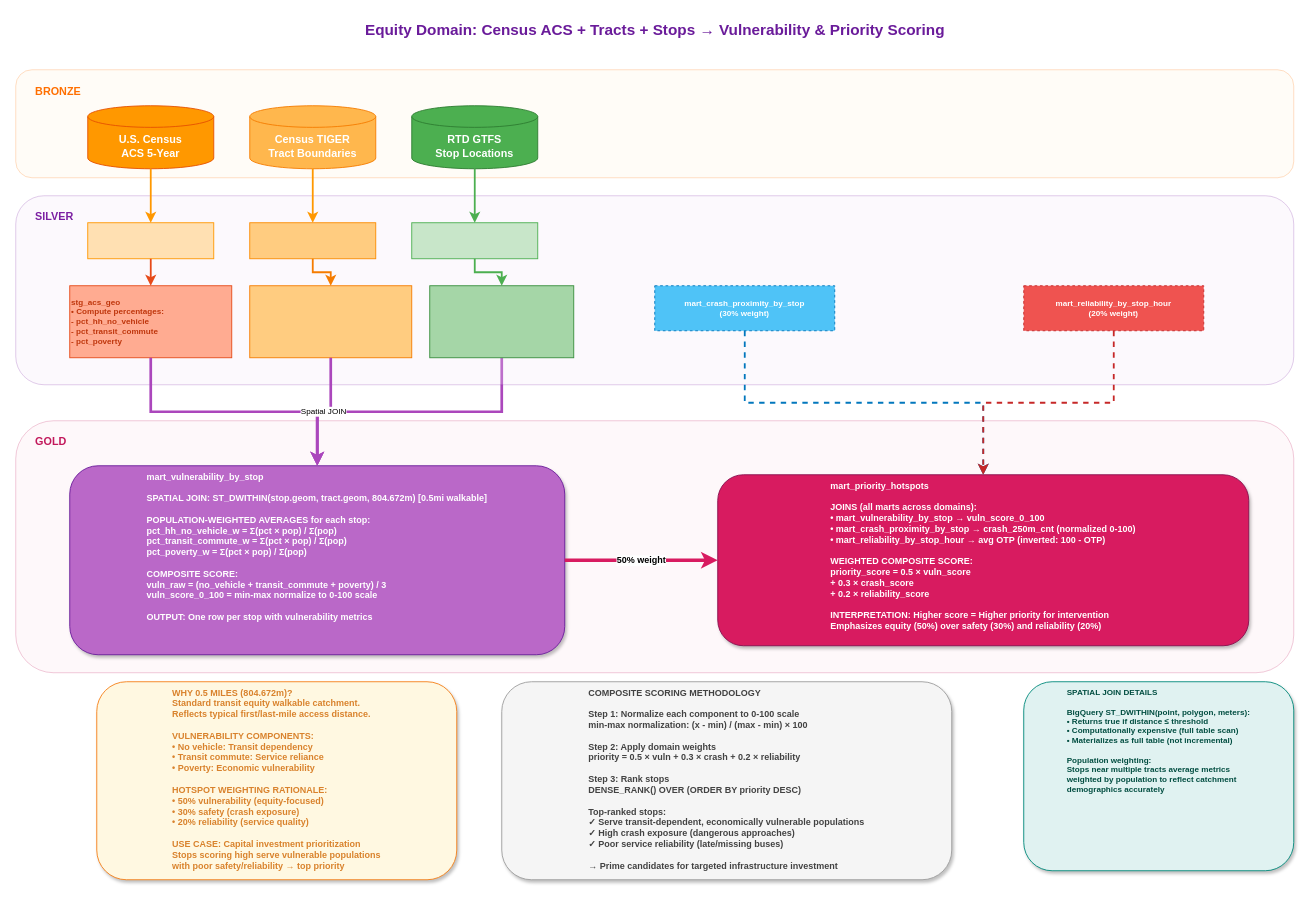
Some shapes in this 1315 by 902 pixel diagram are drawn without their labels. Here are the shapes that lost their labels. From the top down, the centre of each, then its label:
point (150, 240): raw_acs_tract ~140 Denver tracts
point (312, 240): raw_denver_tracts GeoJSON polygons
point (474, 240): raw_gtfs_stops
point (330, 321): stg_denver_tracts • Parse GeoJSON → GEOGRAPHY • Create polygon geometries
point (501, 321): stg_gtfs_stops • Create POINT geometry • Dedupe by stop_id
